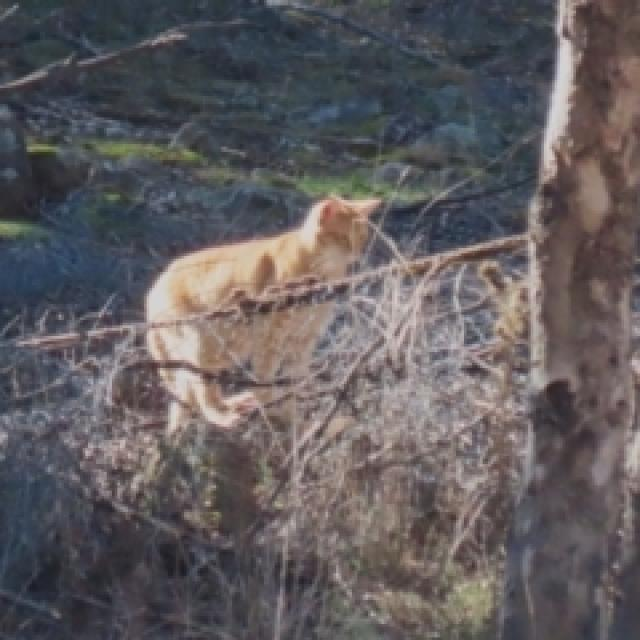cat: (146, 198, 378, 432)
